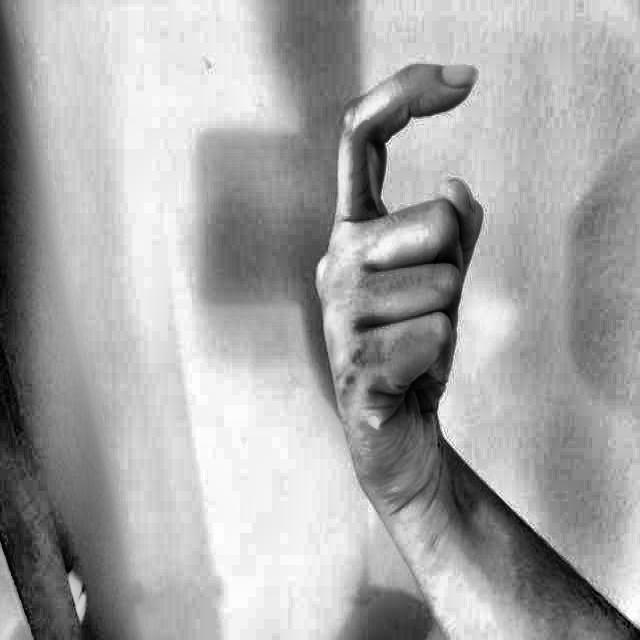E: (290, 26, 522, 511)
